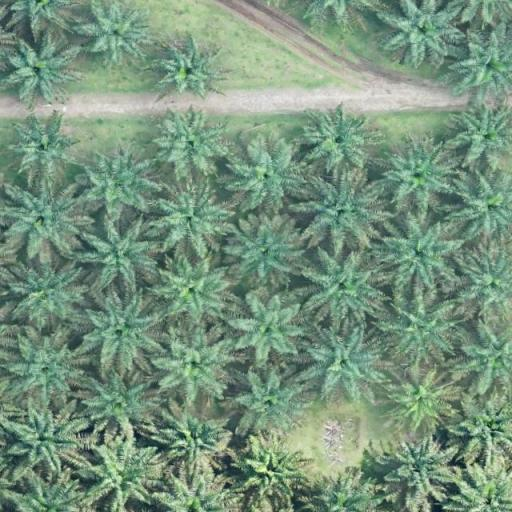Ganoderma: (402, 383, 440, 418)
